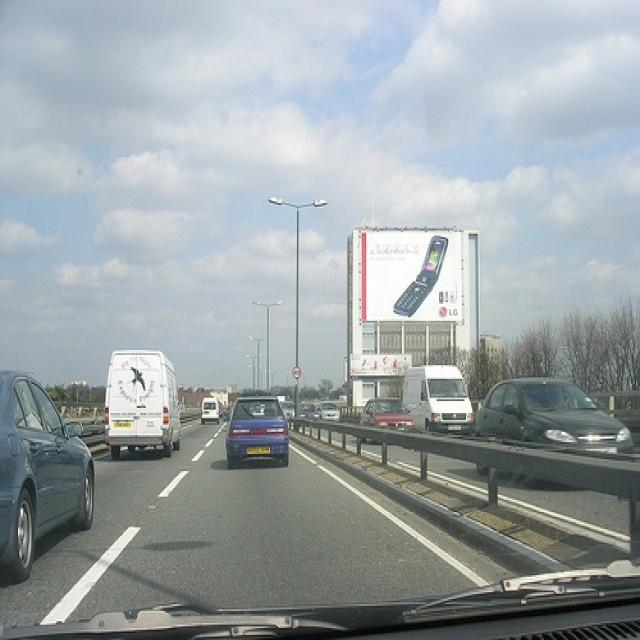car: (1, 369, 95, 585), (475, 376, 633, 488), (101, 346, 178, 461), (224, 391, 291, 469), (402, 367, 472, 433), (361, 398, 413, 433), (198, 396, 222, 425), (316, 398, 341, 422)
